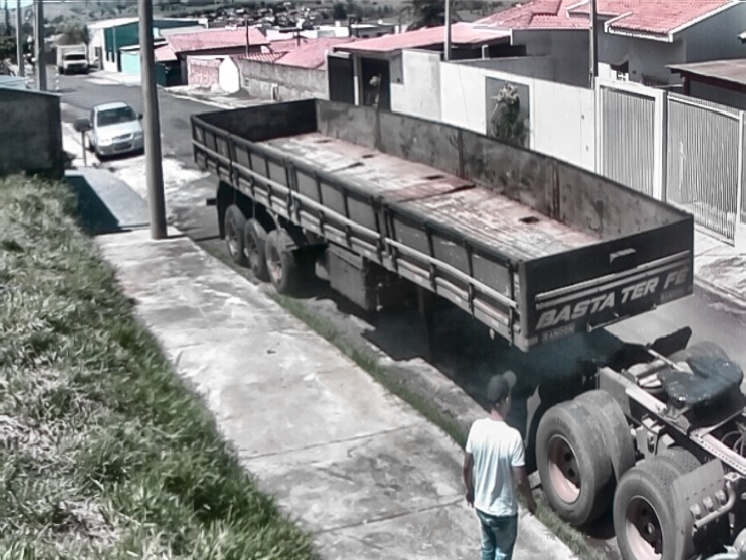person: (459, 371, 539, 560)
